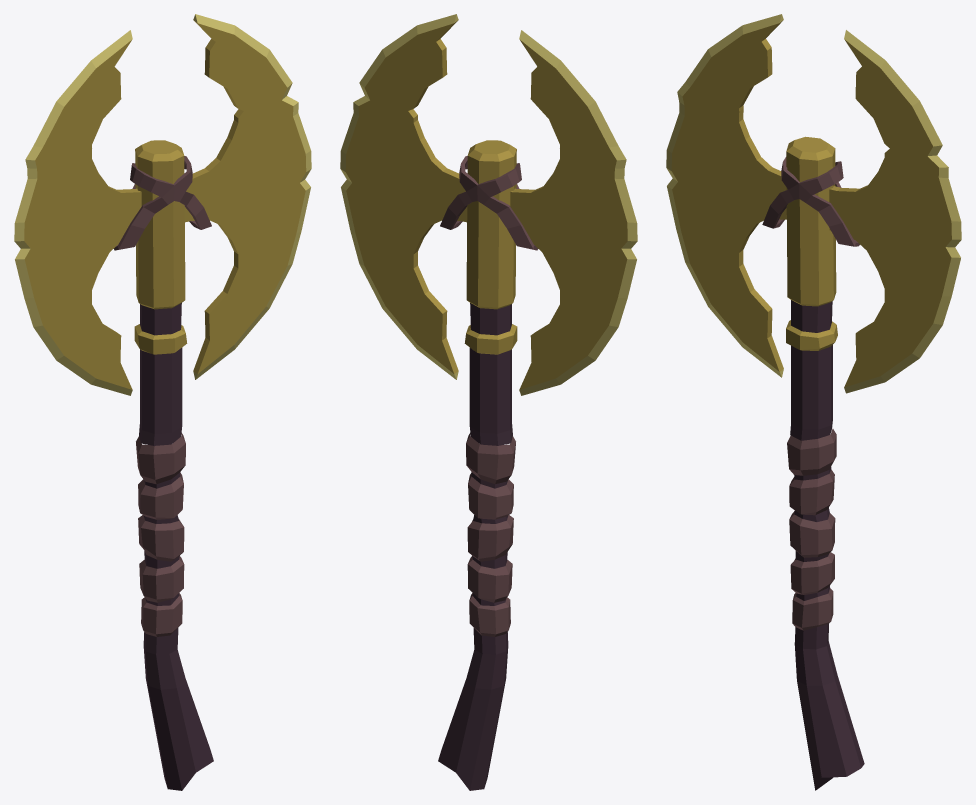
The model's file is Axe_Double_Golden.glb.
3 views of the same model, side by side, from view 1: azimuth 30°, elevation 25°; view 2: azimuth 150°, elevation 25°; view 3: azimuth 330°, elevation 25° (orthographic).
Parts seen in each view (by area): view 1: Axe_Double_Golden_Cylinder.023; view 2: Axe_Double_Golden_Cylinder.023; view 3: Axe_Double_Golden_Cylinder.023.
Boxes of the visible parts, left/top/right/bottom form: Axe_Double_Golden_Cylinder.023: left=14, top=14, right=311, bottom=790; Axe_Double_Golden_Cylinder.023: left=340, top=14, right=637, bottom=790; Axe_Double_Golden_Cylinder.023: left=666, top=14, right=961, bottom=790.
Bounding box in the file's own units: 0.8712 × 2.15 × 0.1355.
